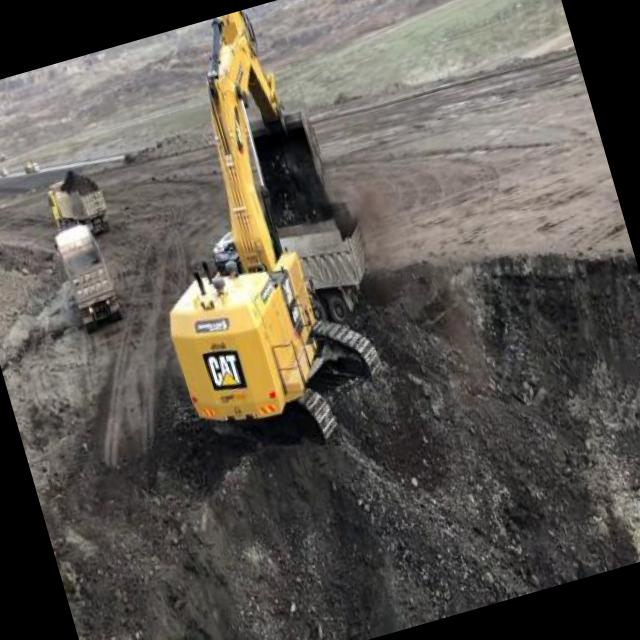Dump Truck: (205, 190, 384, 354), (48, 217, 126, 337), (41, 168, 114, 251)
Excavator: (86, 0, 398, 481)
